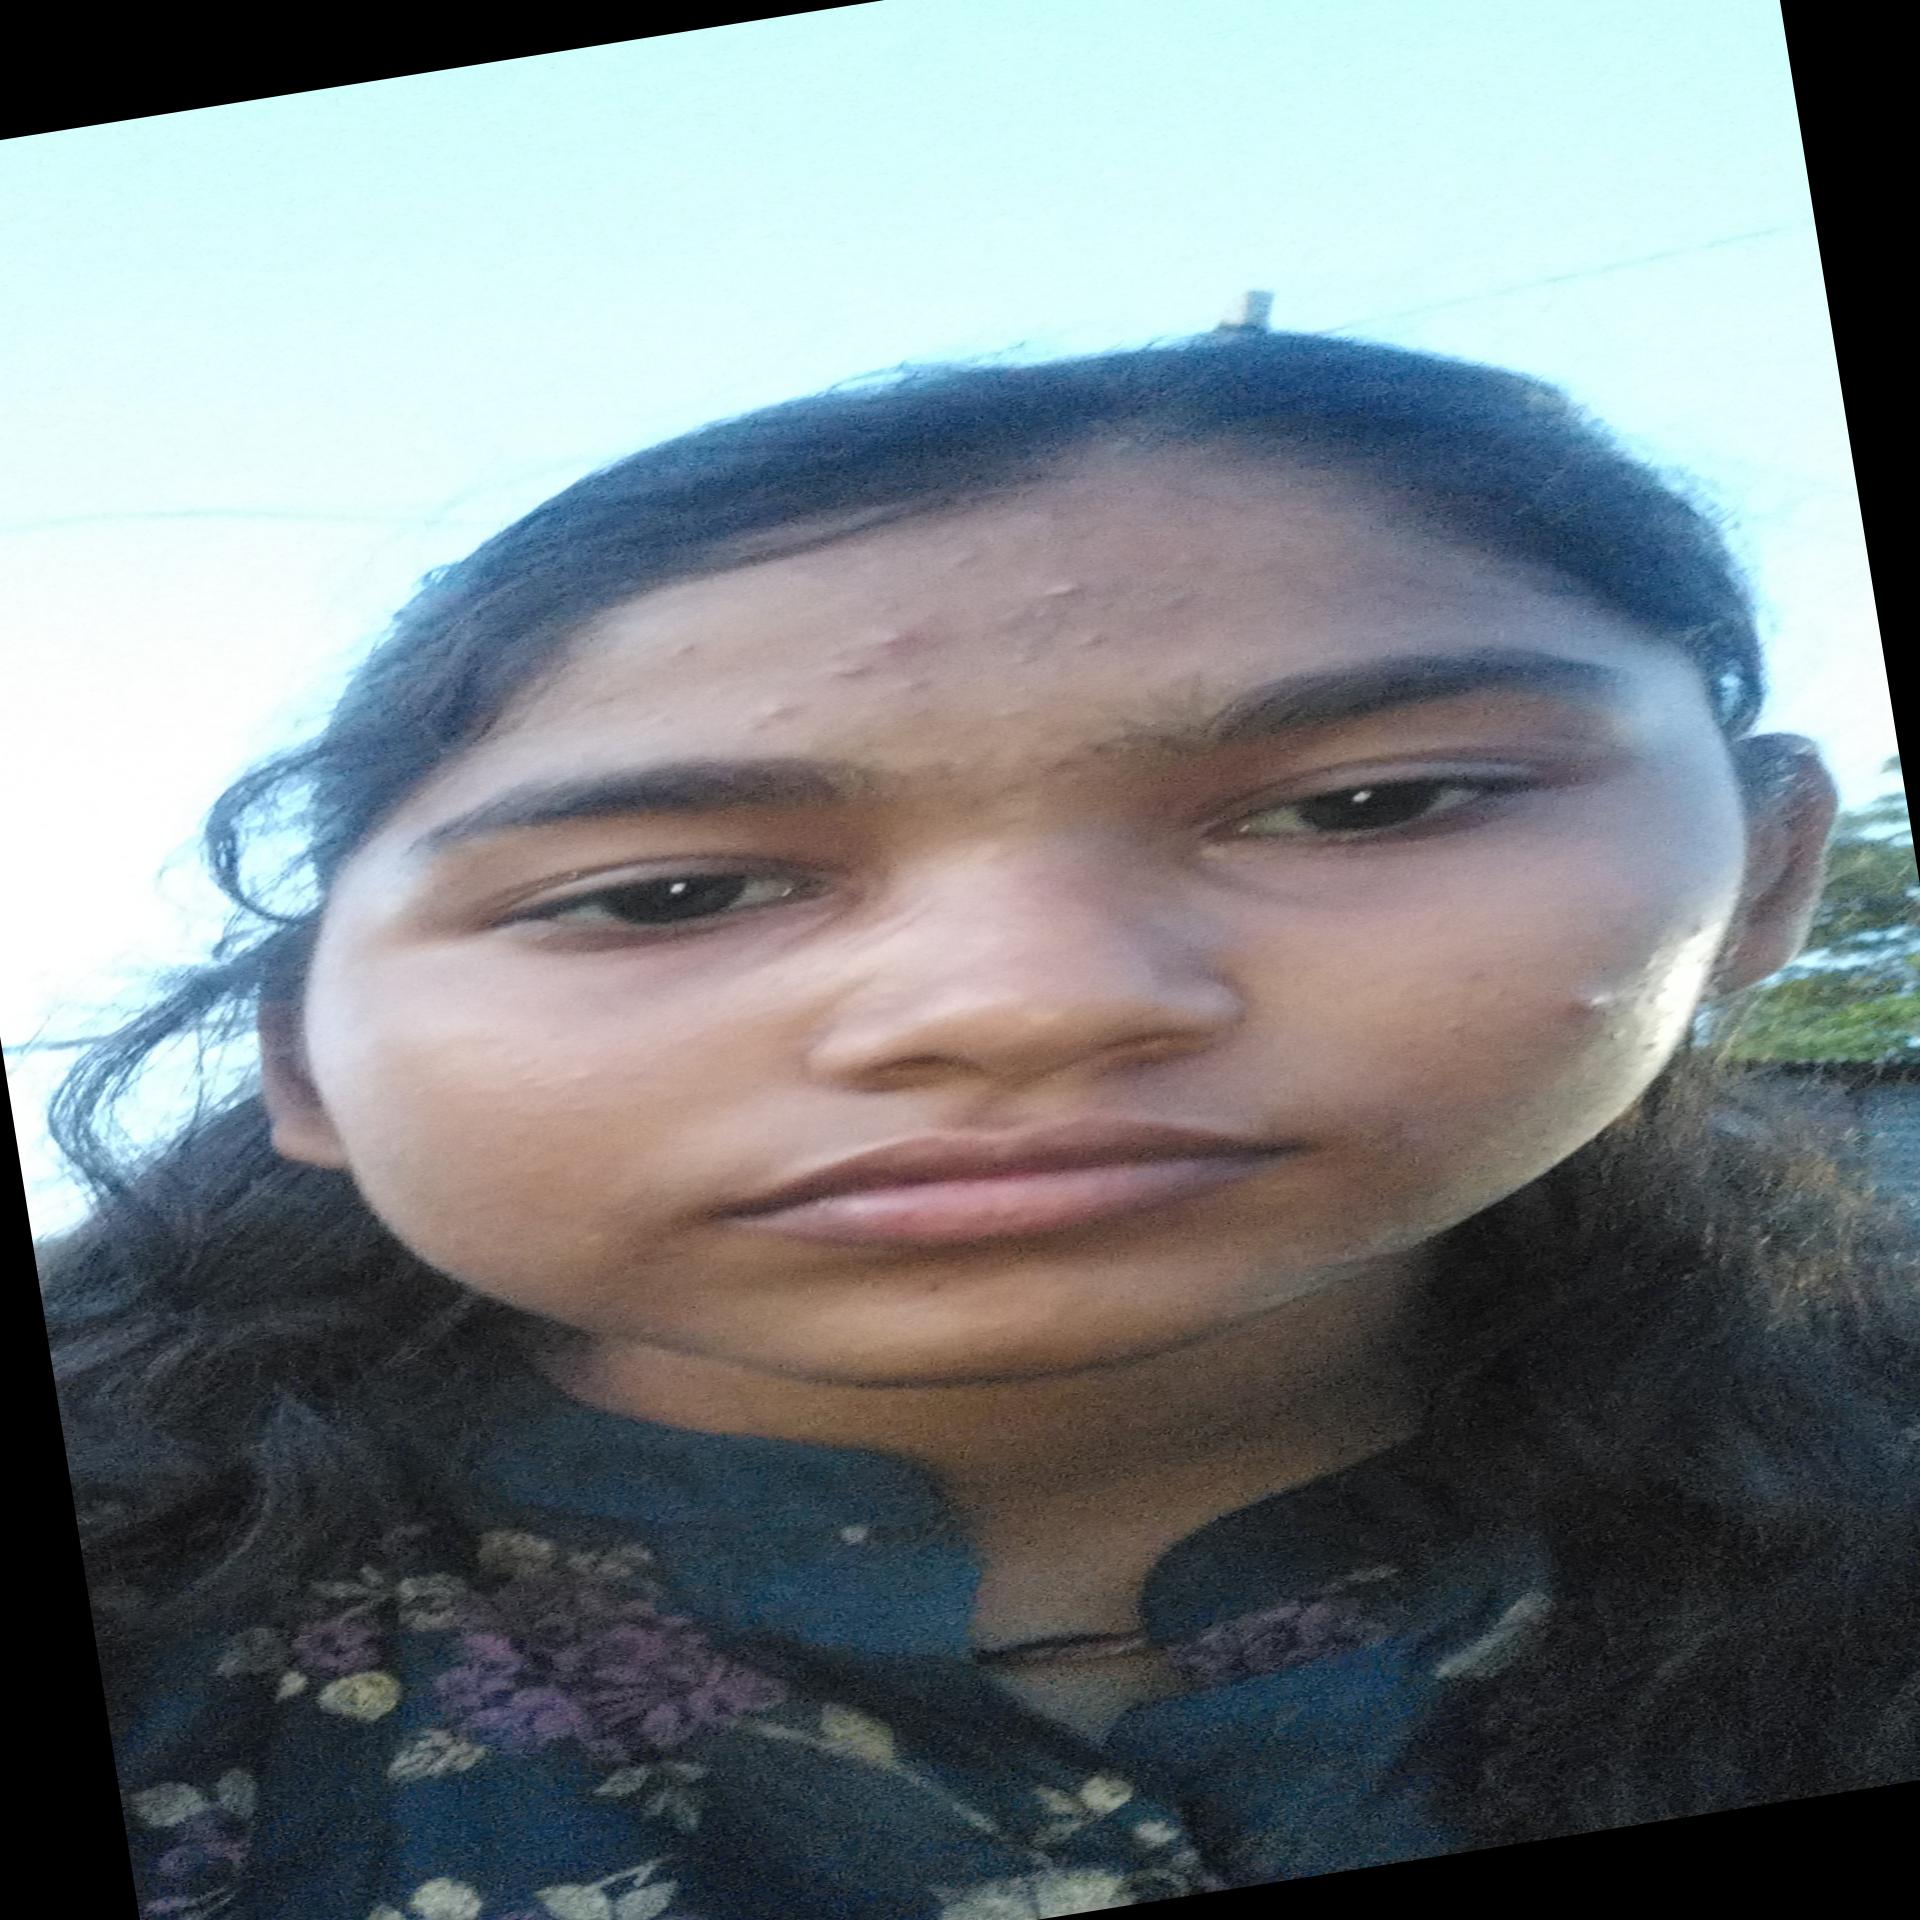Acne: (1558, 990, 1621, 1023), (891, 668, 951, 700), (939, 543, 993, 577), (823, 652, 879, 684), (1036, 573, 1088, 605), (869, 622, 918, 652), (751, 698, 798, 726), (1157, 587, 1197, 615), (665, 635, 709, 659), (1067, 629, 1109, 652), (1002, 647, 1043, 670), (1684, 914, 1714, 941), (1598, 1027, 1632, 1044)
